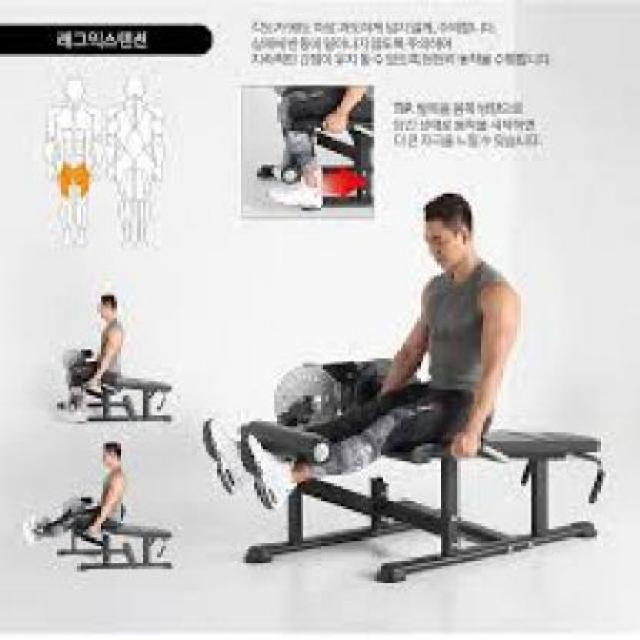leg extension: (183, 185, 640, 632)
